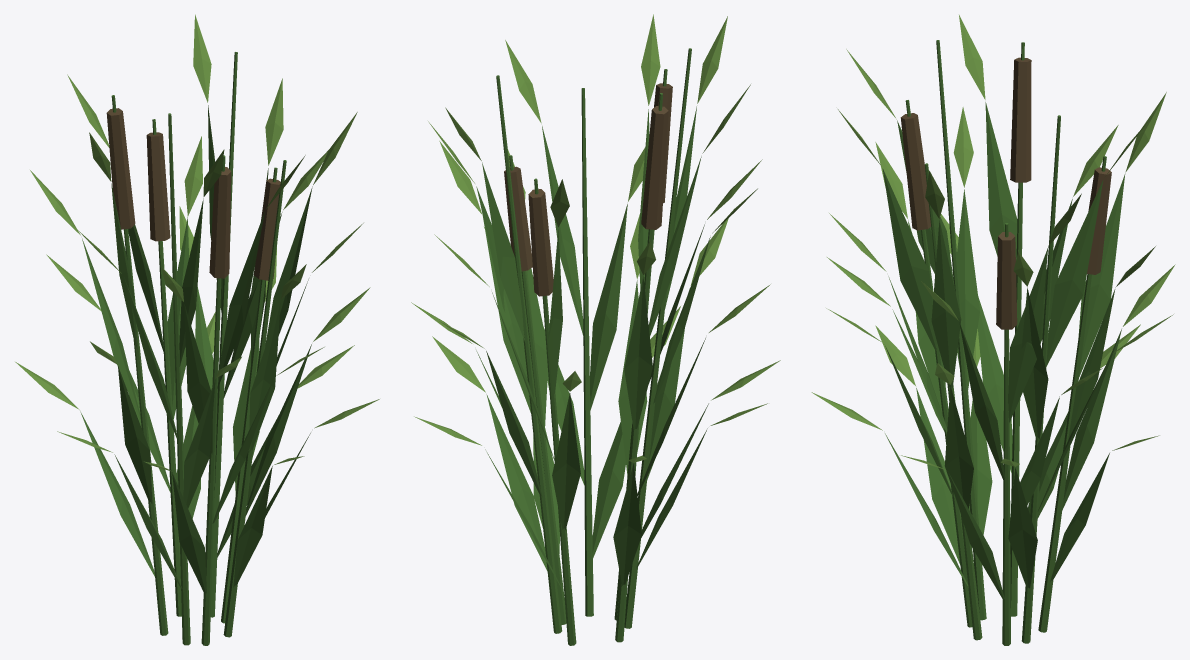
File: reed_lod0.gltf
3 renders of one model, left to right at view 1: azimuth 30°, elevation 25°; view 2: azimuth 150°, elevation 25°; view 3: azimuth 270°, elevation 25°, orthographic. The views are drawn at different scales.
Visible parts, largest first — view 1: reed_original_lod0; view 2: reed_original_lod0; view 3: reed_original_lod0.
Part boxes in pixels (x1,y1,x2,y2): reed_original_lod0: (15, 14, 379, 645); reed_original_lod0: (411, 14, 780, 645); reed_original_lod0: (811, 15, 1175, 645).
Size of the model in its own units: 0.68 by 1.15 by 0.68.
